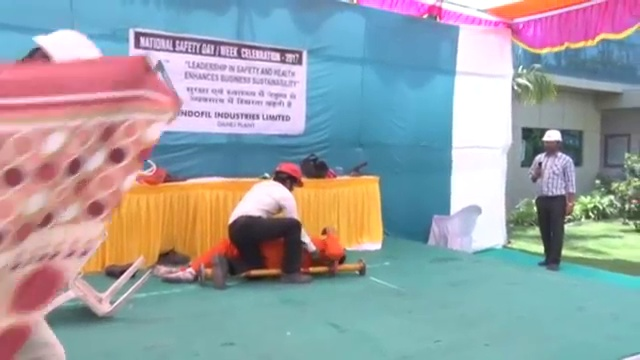helmet: (275, 161, 307, 190), (541, 129, 562, 143)
helmet_on: (273, 161, 306, 195), (540, 128, 562, 159)
person: (209, 160, 314, 292), (158, 227, 350, 284), (527, 127, 578, 274)
